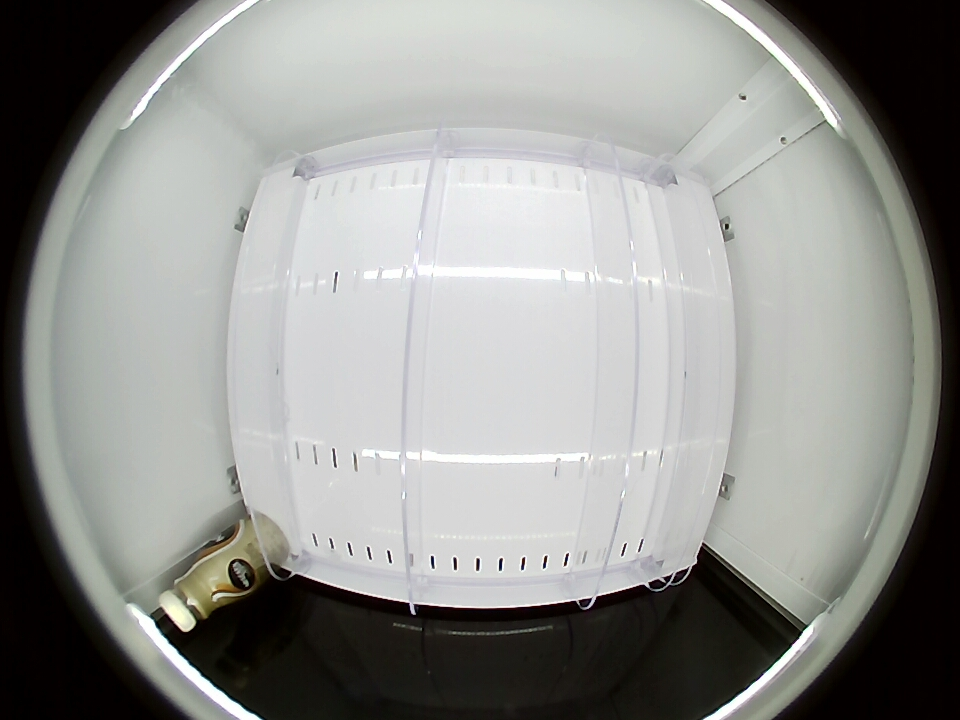kafei: (157, 552, 241, 633)
